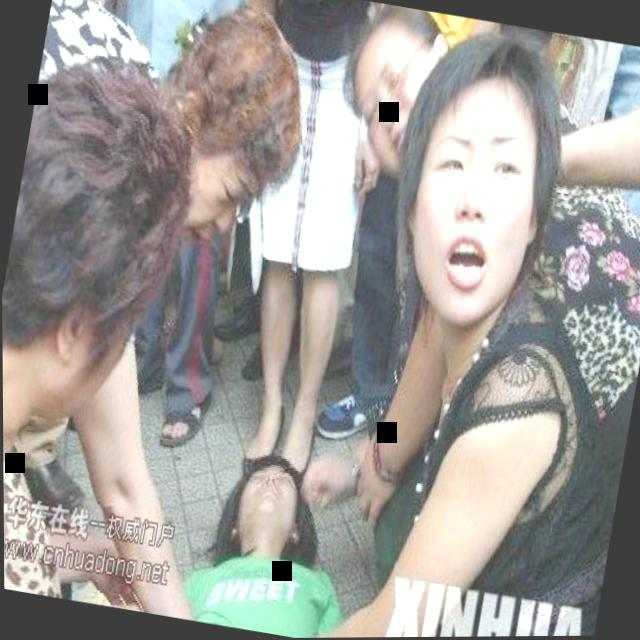Fall-Detected: (133, 417, 372, 639)
